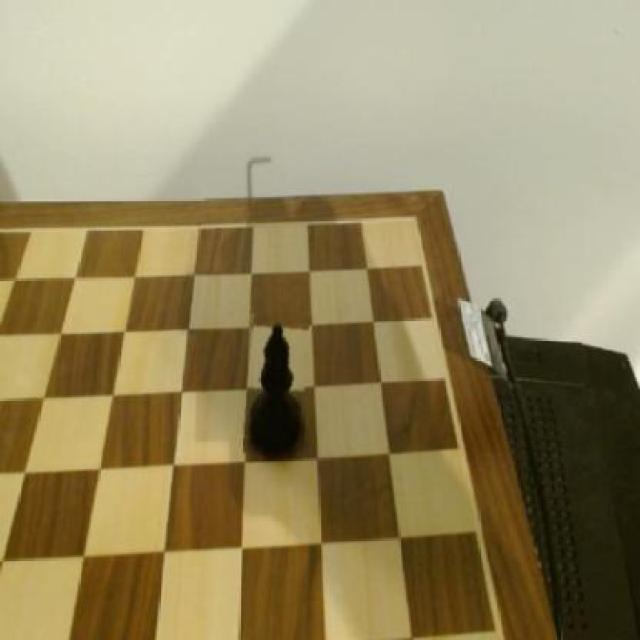bishop: (246, 315, 309, 458)
